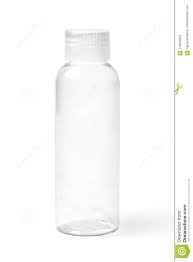available: (50, 24, 128, 237)
